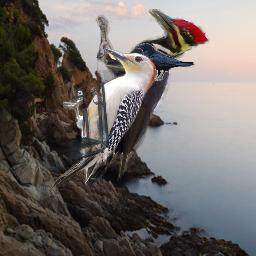Crow: (134, 43, 195, 81)
Woodpecker: (85, 9, 210, 190), (50, 45, 159, 191)
